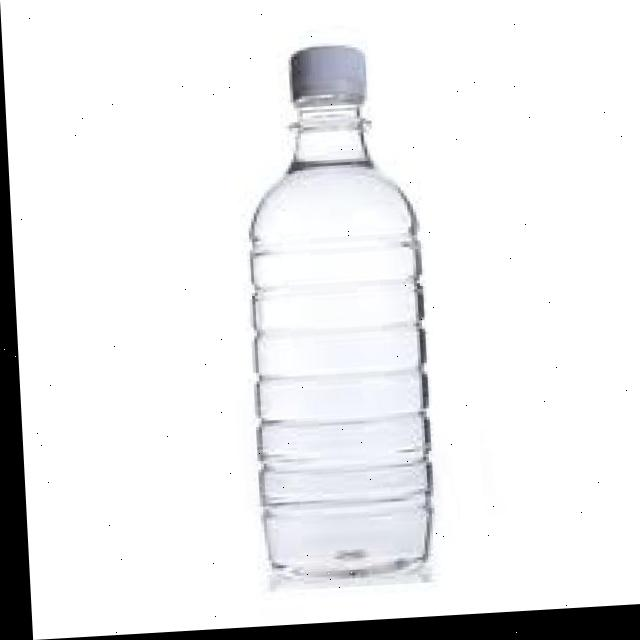bottle: (205, 16, 476, 609)
